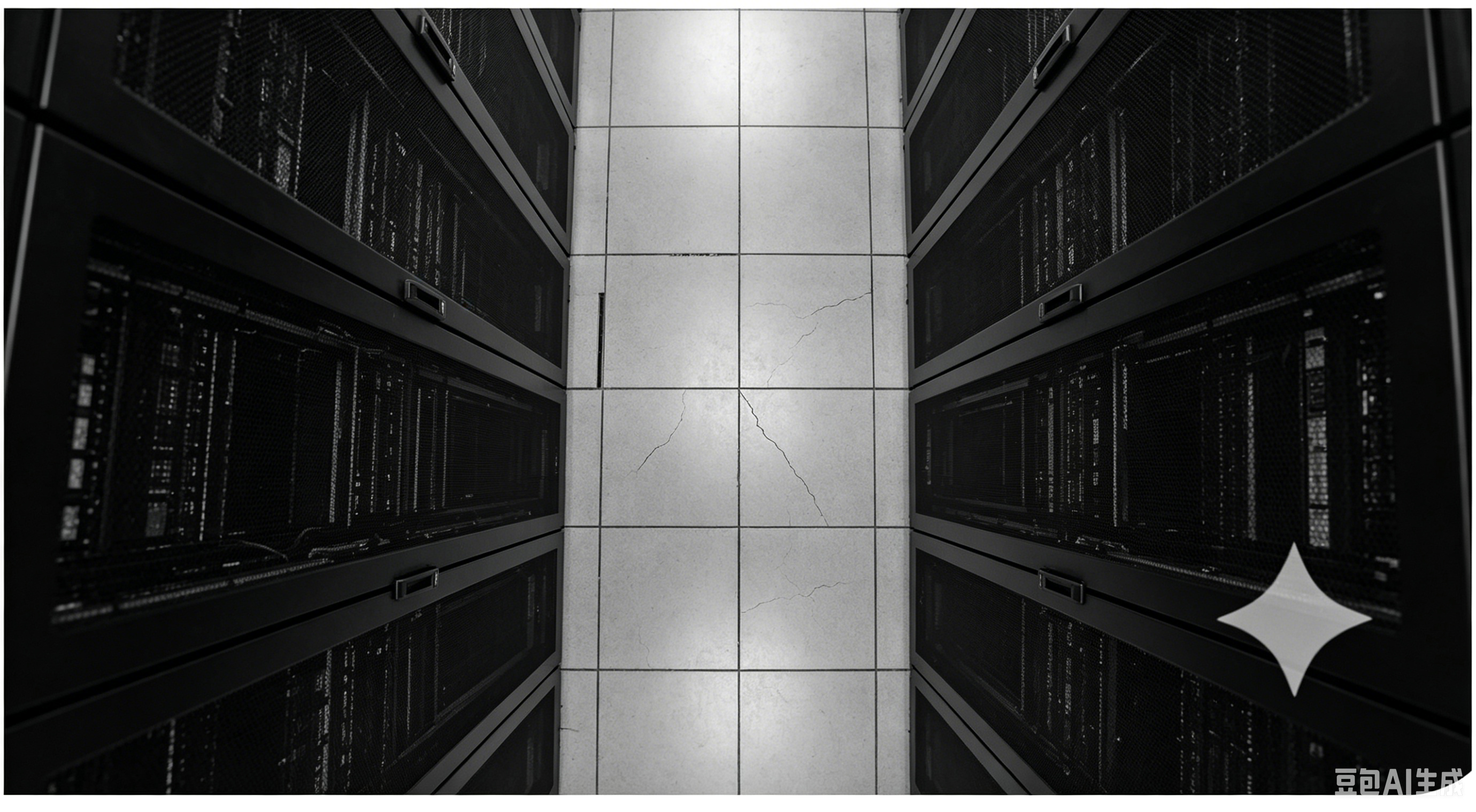floor_defect: (740, 393, 829, 524), (742, 574, 865, 618), (636, 382, 683, 475), (789, 282, 876, 324)
